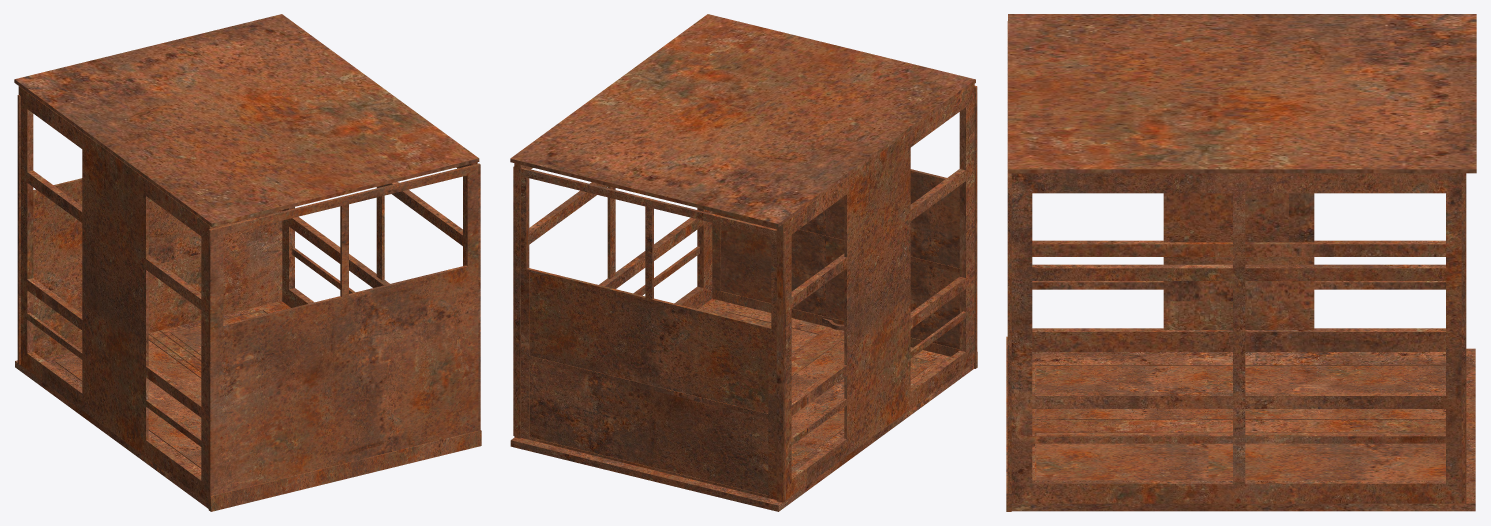
Rendered from LIFT.fbx.
The picture shows the model from 3 angles, left to right: view 1: azimuth 30°, elevation 25°; view 2: azimuth 150°, elevation 25°; view 3: azimuth 270°, elevation 25°; orthographic projection. The views are drawn at different scales.
Visible parts, largest first — view 1: polySurface39, polySurface35, polySurface36, polySurface38, polySurface42, polySurface34, polySurface41, polySurface43, polySurface37; view 2: polySurface39, polySurface38, polySurface36, polySurface35, polySurface43, polySurface42, polySurface41, polySurface34, polySurface37; view 3: polySurface39, polySurface42, polySurface36, polySurface43, polySurface37, polySurface41, polySurface35, polySurface38.
Boxes of the visible parts, bbox=[...] form: polySurface39: bbox=[14, 14, 479, 226]; polySurface35: bbox=[208, 163, 480, 498]; polySurface36: bbox=[18, 86, 215, 502]; polySurface38: bbox=[17, 95, 282, 364]; polySurface42: bbox=[282, 162, 477, 307]; polySurface34: bbox=[208, 430, 481, 511]; polySurface41: bbox=[55, 340, 201, 468]; polySurface43: bbox=[15, 301, 290, 508]; polySurface37: bbox=[171, 310, 266, 355]; polySurface39: bbox=[510, 14, 975, 227]; polySurface38: bbox=[513, 166, 785, 501]; polySurface36: bbox=[776, 84, 974, 502]; polySurface35: bbox=[712, 85, 977, 356]; polySurface43: bbox=[510, 298, 973, 511]; polySurface42: bbox=[514, 163, 712, 438]; polySurface41: bbox=[791, 340, 933, 466]; polySurface34: bbox=[712, 289, 977, 368]; polySurface37: bbox=[722, 312, 817, 353]; polySurface39: bbox=[1008, 14, 1476, 173]; polySurface42: bbox=[1011, 173, 1466, 503]; polySurface36: bbox=[1032, 193, 1445, 351]; polySurface43: bbox=[1011, 348, 1475, 511]; polySurface37: bbox=[1035, 433, 1445, 480]; polySurface41: bbox=[1035, 366, 1445, 419]; polySurface35: bbox=[1007, 21, 1011, 493]; polySurface38: bbox=[1461, 183, 1465, 503].
Bounding box in the file's own units: 391 × 397 × 495.
1 material, 1 textured.
